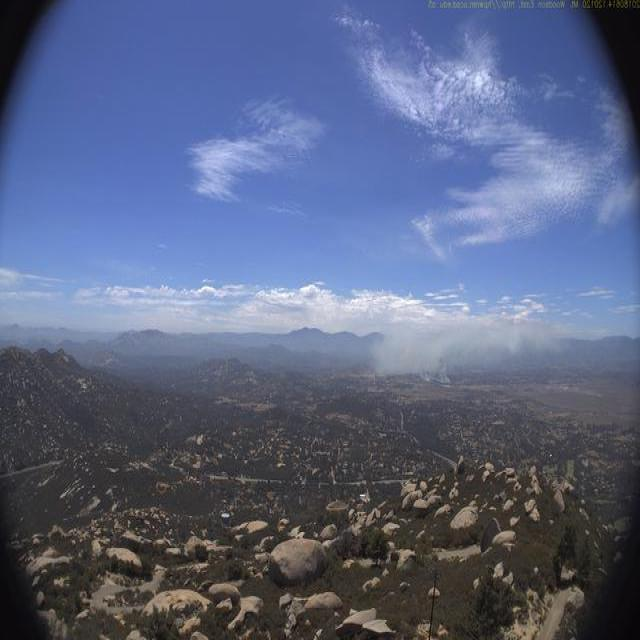Smoke: (369, 301, 565, 384)
